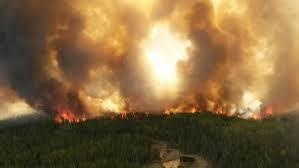fire: (55, 108, 86, 122)
